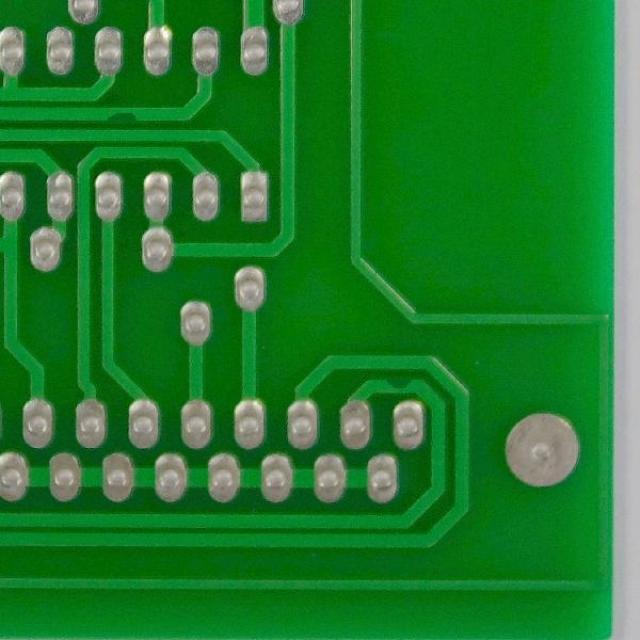mouse_bite: (99, 104, 145, 130), (381, 375, 417, 400)
